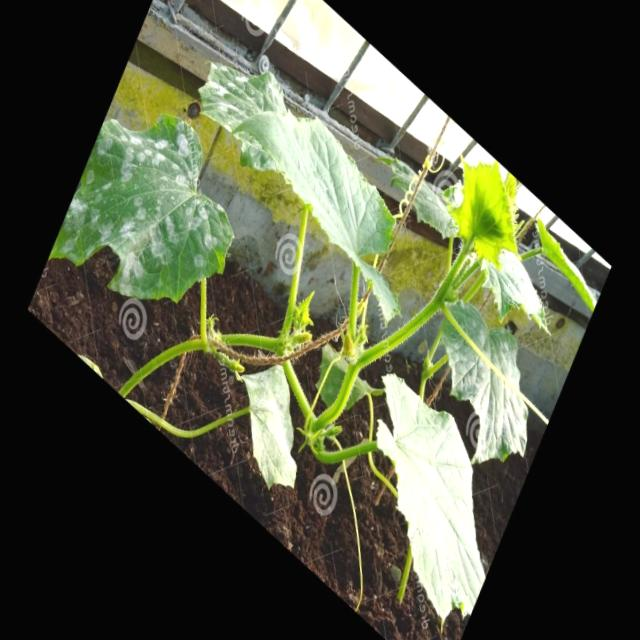Powdery_Mildew: (47, 105, 250, 325), (178, 37, 295, 176), (424, 293, 528, 408)
